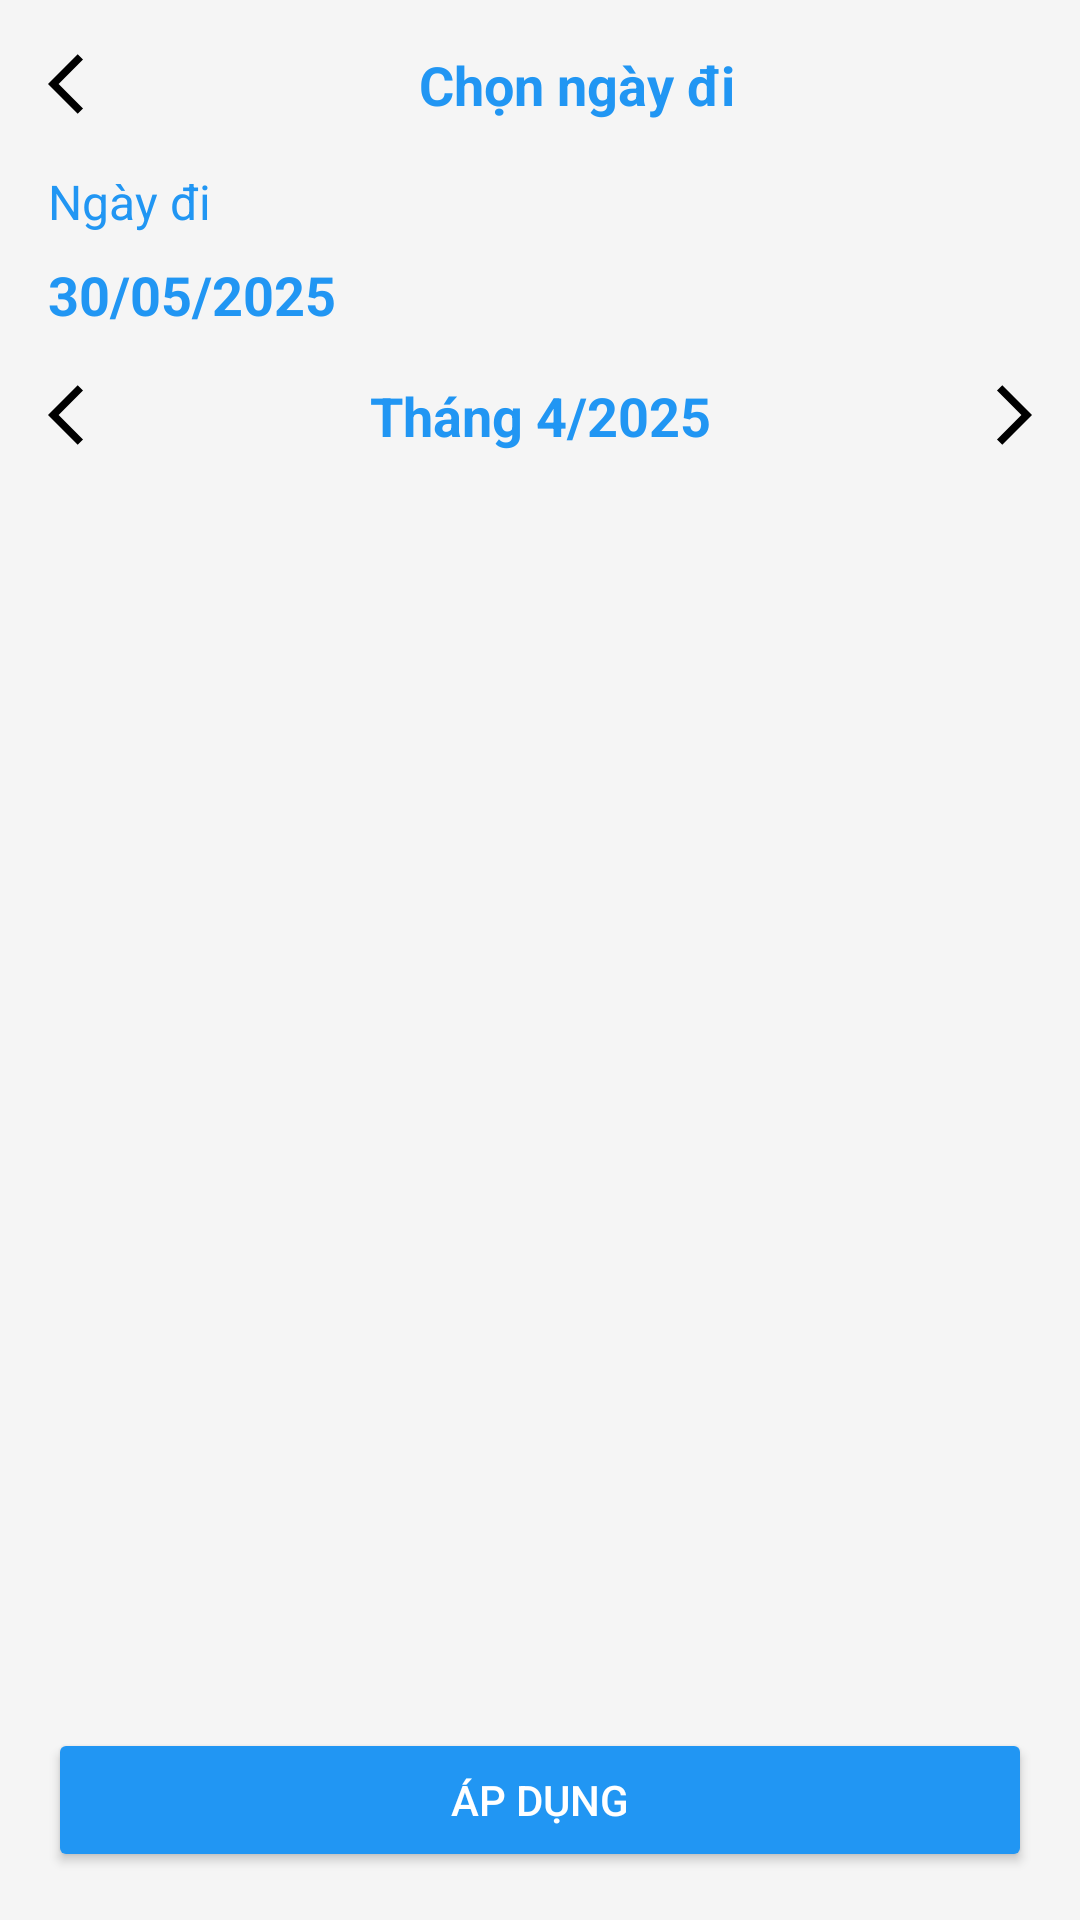

Where icons sit on this 1080px×1920px app screen, as (x1=x1, y1=y1, x2=x2, y2=y2):
Back: (x1=48, y1=54, x2=83, y2=114)
Next Month: (x1=997, y1=385, x2=1032, y2=445)
Previous Month: (x1=48, y1=385, x2=83, y2=445)
